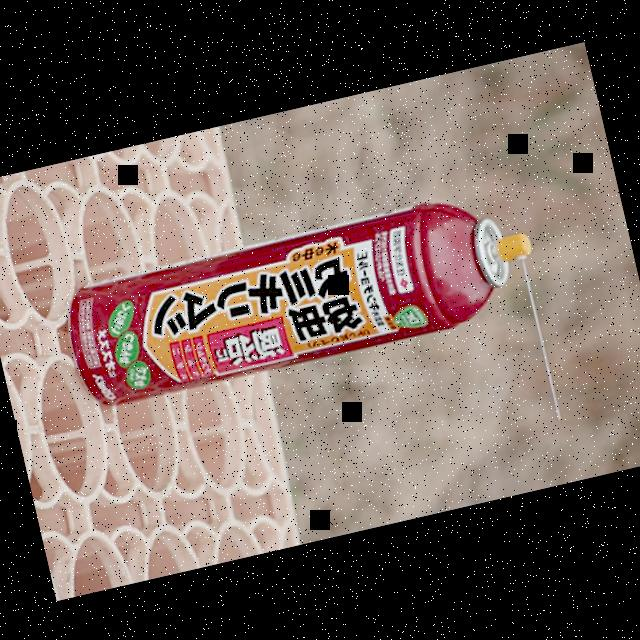chemical_spray_can: (36, 146, 566, 440)
